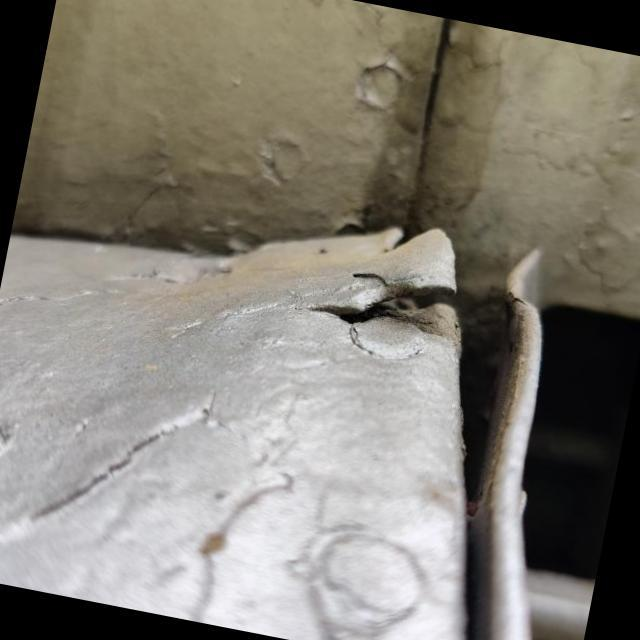Rupture: (286, 236, 479, 357)
